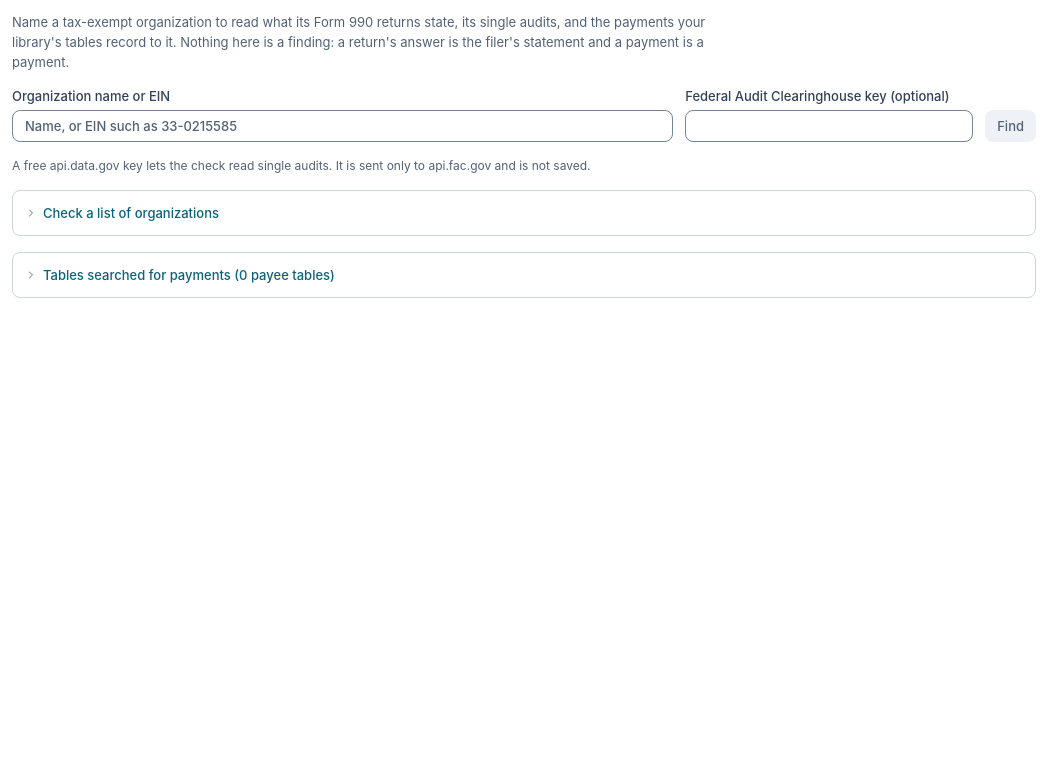
Scenario: organisation filings › discards a check that resolves after another organisation was opened
This screenshot has width=1048, height=780.
Type "11-1111111" into the field labelled "Organization name or EIN".
click(343, 126); type("11-1111111")  # box [12,110,673,142]
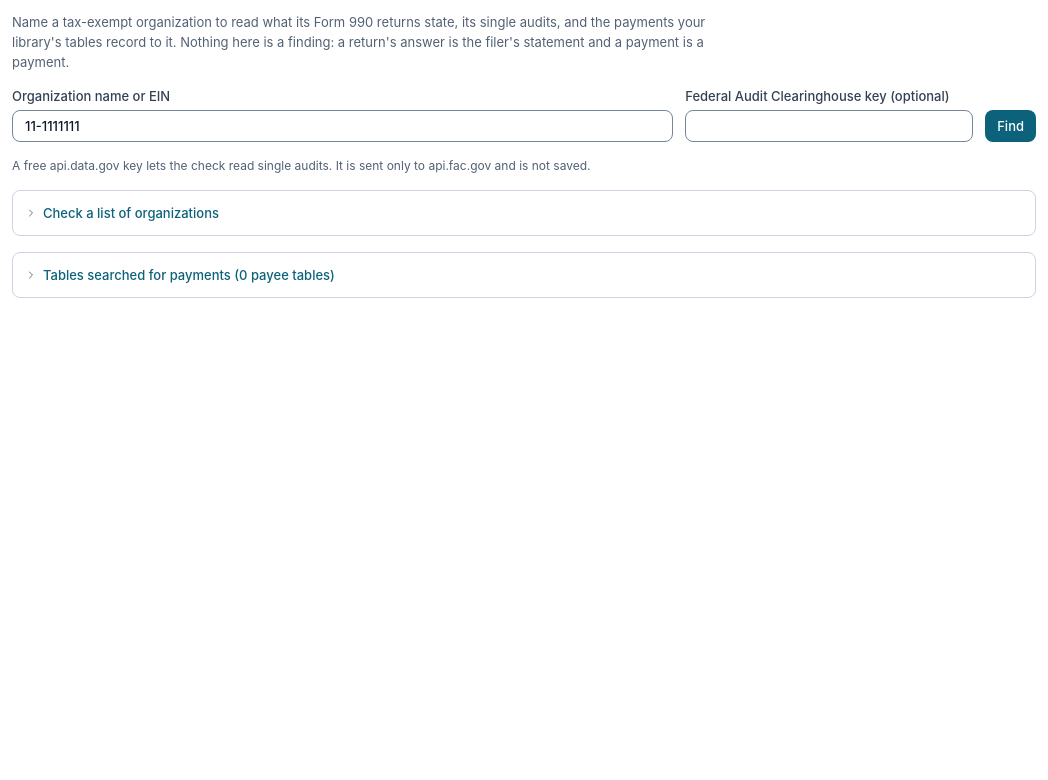
Click the button "Find".
click(1011, 126)  # box [985,110,1036,142]
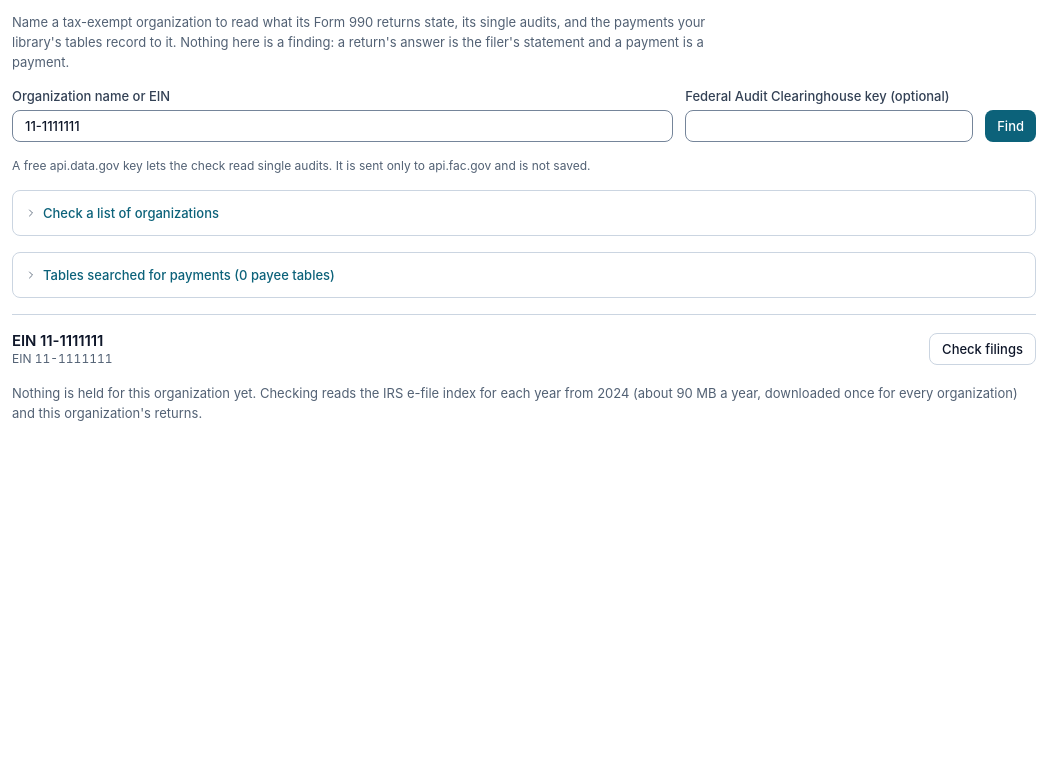
Click the button "Check filings".
click(983, 349)  # box [929,333,1036,365]
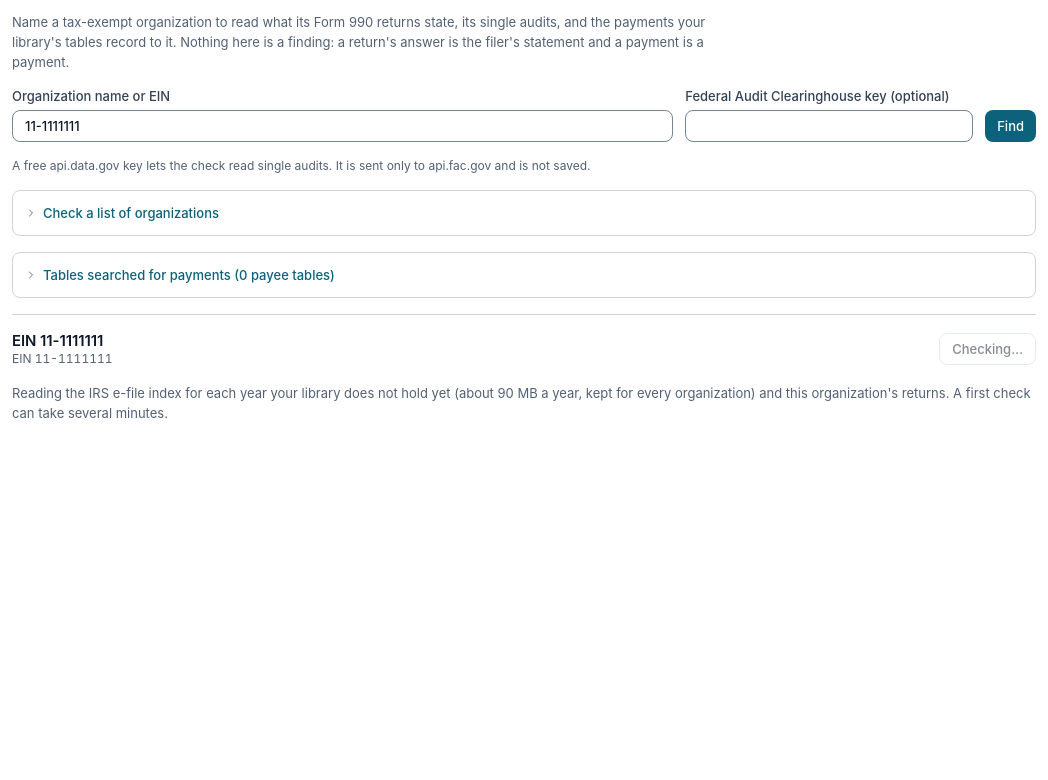
Replace the text in the field labelled "Organization name or EIN" with "222222222" at (343, 126), box [12,110,673,142]
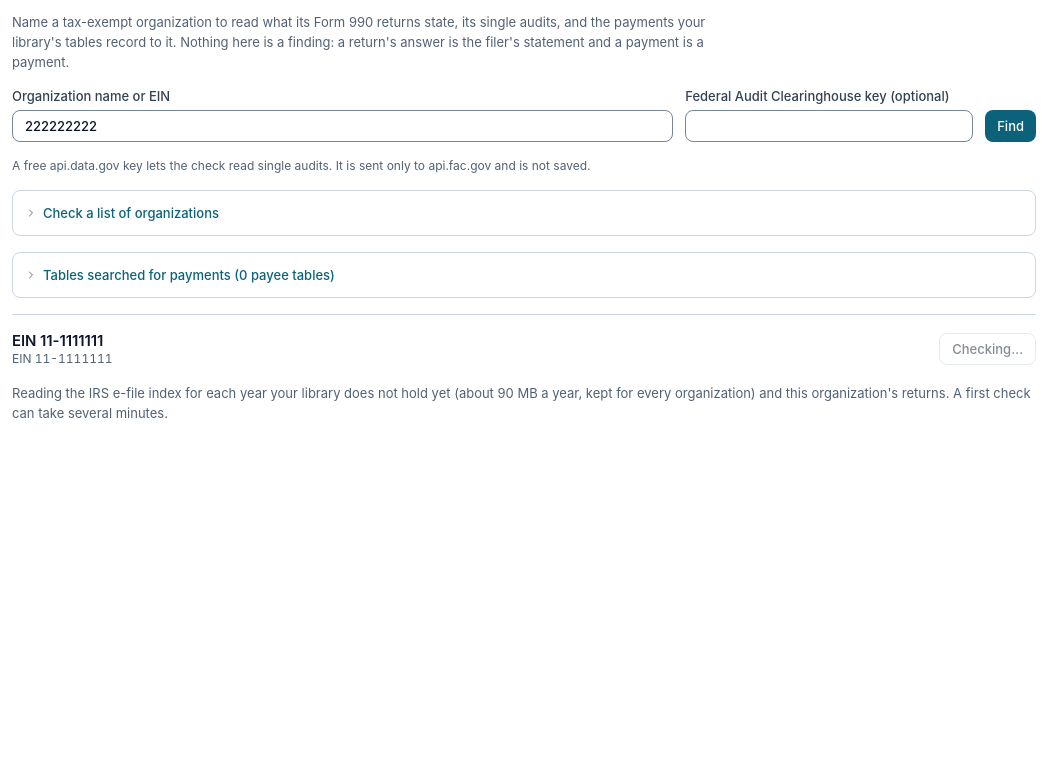
Click the button "Find".
click(1011, 126)  # box [985,110,1036,142]
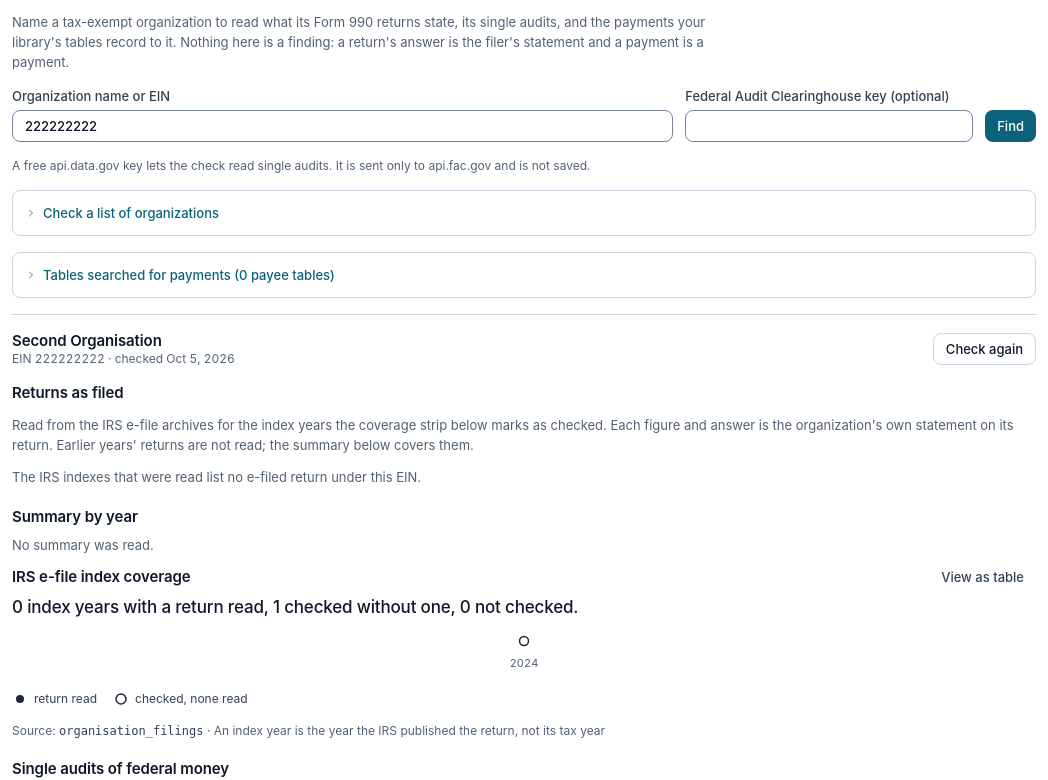
Check: the heading "Second Organisation" is shown, box [12,331,162,350]
Check: the button "Check again" is enabled, box [933,333,1036,365]
